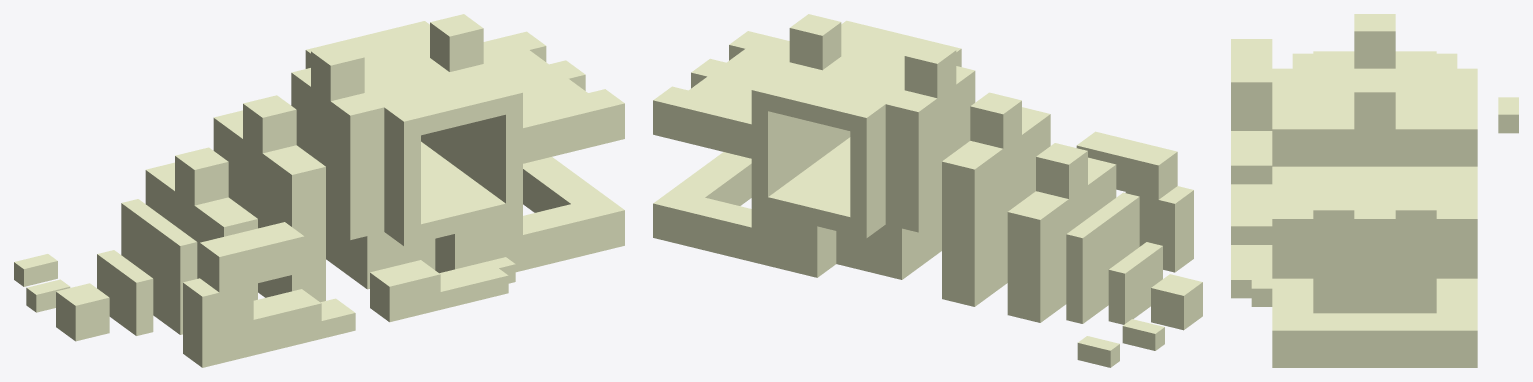
The model's file is TrexSkeleton.obj.
3 views of the same model, side by side, from view 1: azimuth 30°, elevation 25°; view 2: azimuth 150°, elevation 25°; view 3: azimuth 270°, elevation 25° (orthographic). The views are drawn at different scales.
Bounding box in the file's own units: 30 × 12 × 14.
Materials: 1 (1 with a texture image).
